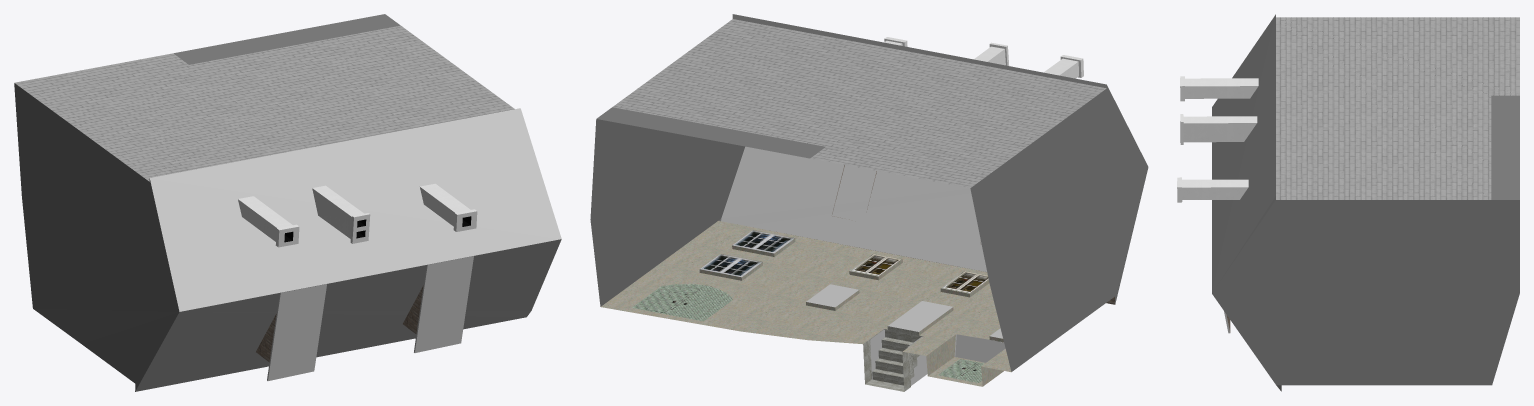
Rendered from Myyrivahe_35.obj.
The picture shows the model from 3 angles, left to right: view 1: azimuth 30°, elevation 25°; view 2: azimuth 150°, elevation 25°; view 3: azimuth 270°, elevation 25°; orthographic projection. The views are drawn at different scales.
Parts seen in each view (by area): view 1: Myyrivahe_35; view 2: Myyrivahe_35; view 3: Myyrivahe_35.
Part boxes in pixels (x1,y1,x2,y2): Myyrivahe_35: (14, 14, 561, 391); Myyrivahe_35: (590, 14, 1148, 391); Myyrivahe_35: (1177, 14, 1519, 391).
Size of the model in its own units: 16.41 by 10.06 by 13.74.
